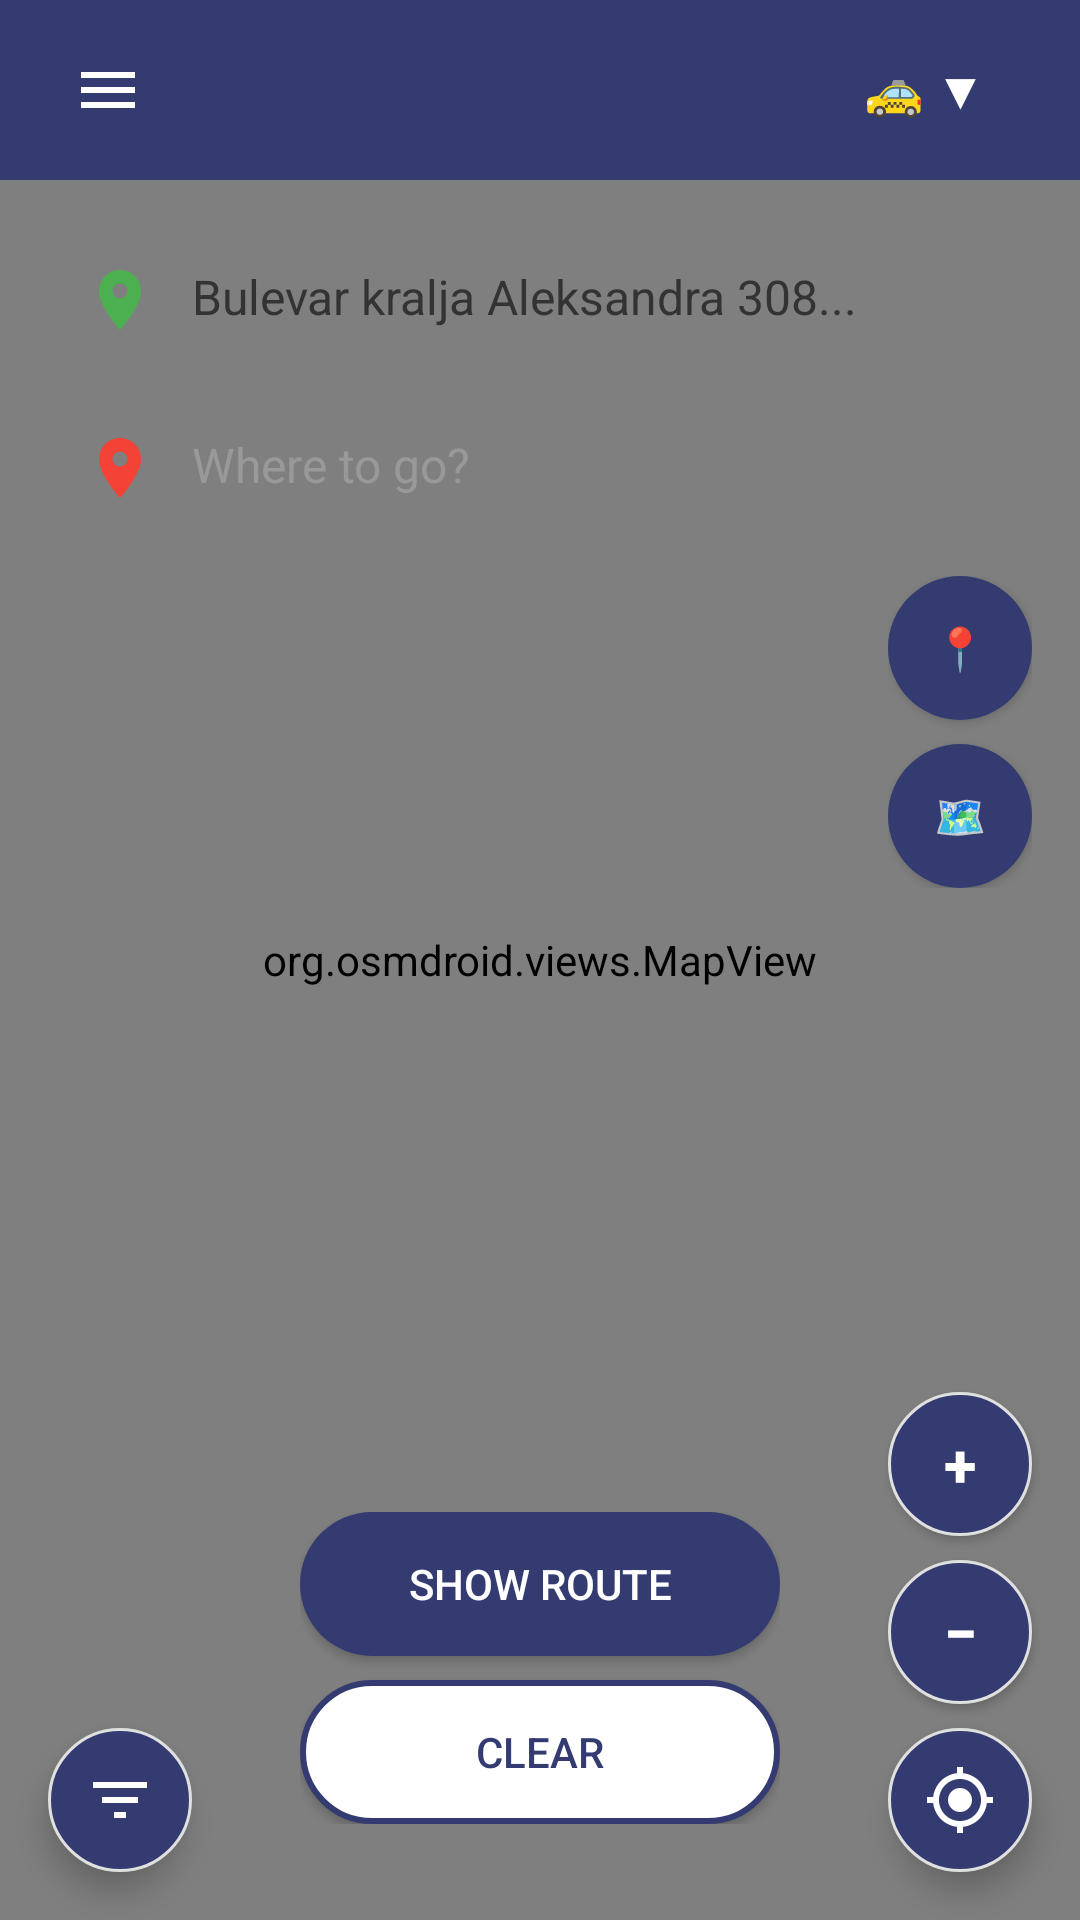

Icons on this 1080w x 1920h Android screen, each with its box as Rect(x1, y1, x2, y2):
Destination location: Rect(99, 438, 141, 498)
Filter: Rect(48, 1728, 192, 1872)
Menu: Rect(81, 72, 135, 108)
My Location: Rect(888, 1728, 1032, 1872)
Pickup location: Rect(99, 270, 141, 329)
